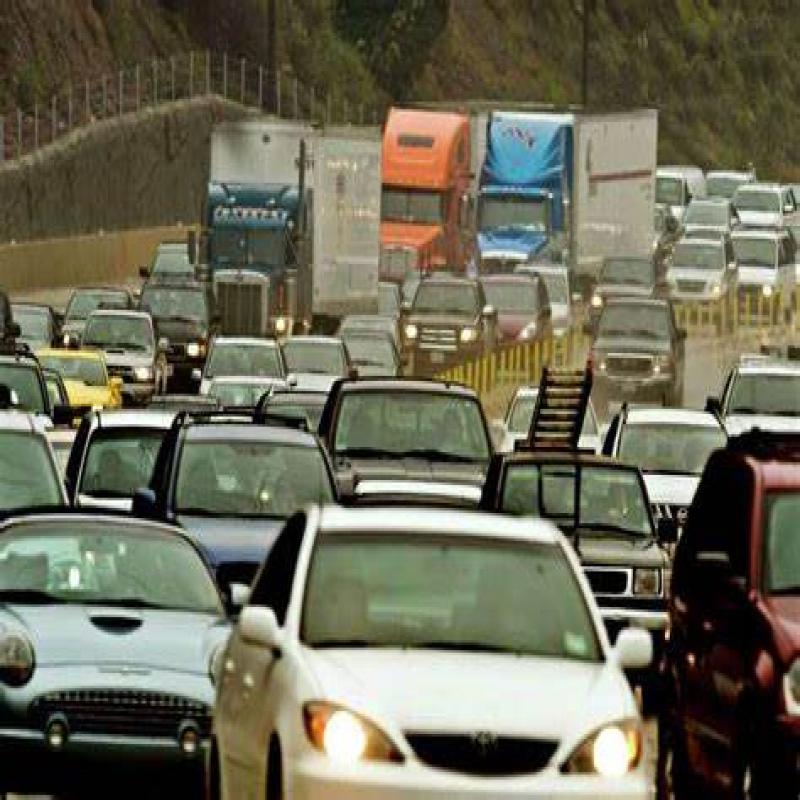car: (204, 487, 676, 800), (2, 481, 254, 800), (149, 406, 341, 586)
